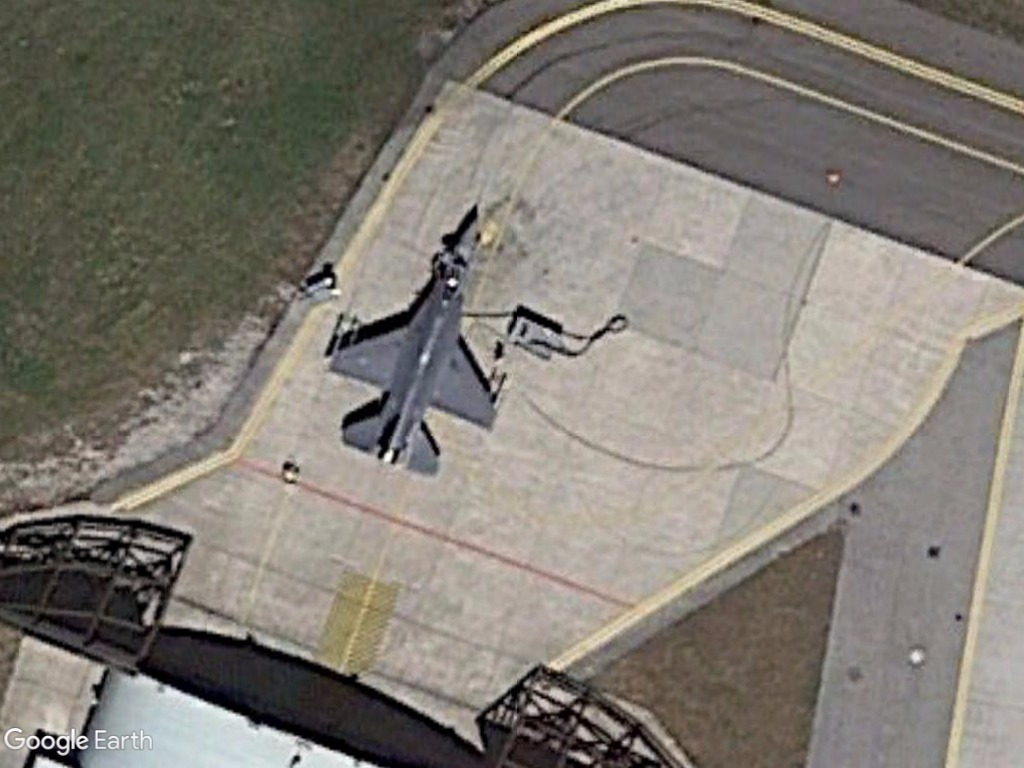fighter: (318, 202, 516, 483)
